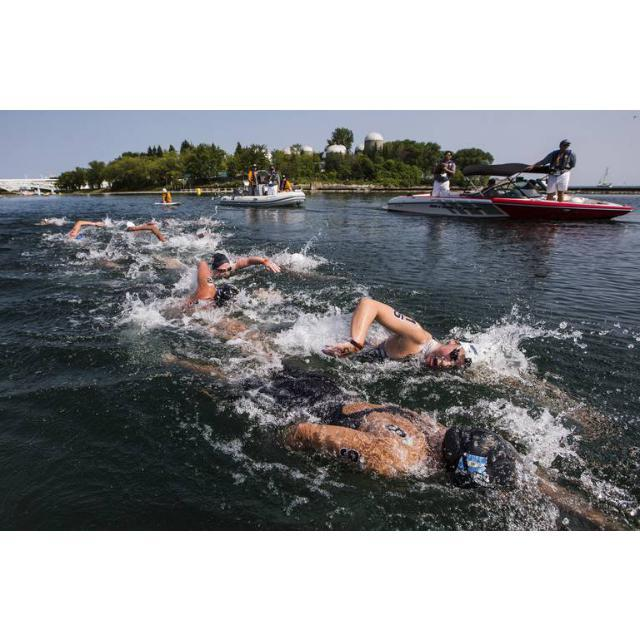human: (275, 356, 606, 527), (275, 298, 506, 373), (176, 258, 251, 322), (209, 246, 285, 281), (63, 214, 103, 241), (126, 221, 173, 239)
